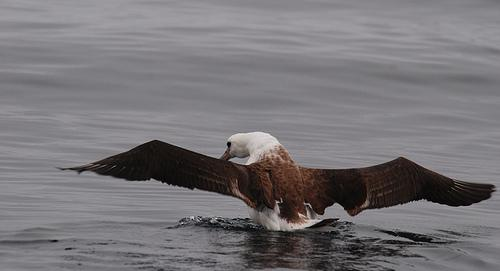002.Laysan_Albatross: (55, 130, 496, 233)
